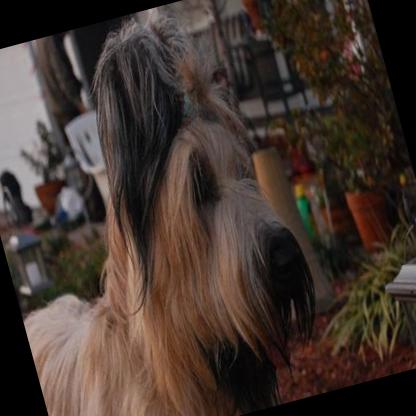briard: (0, 0, 338, 416)
